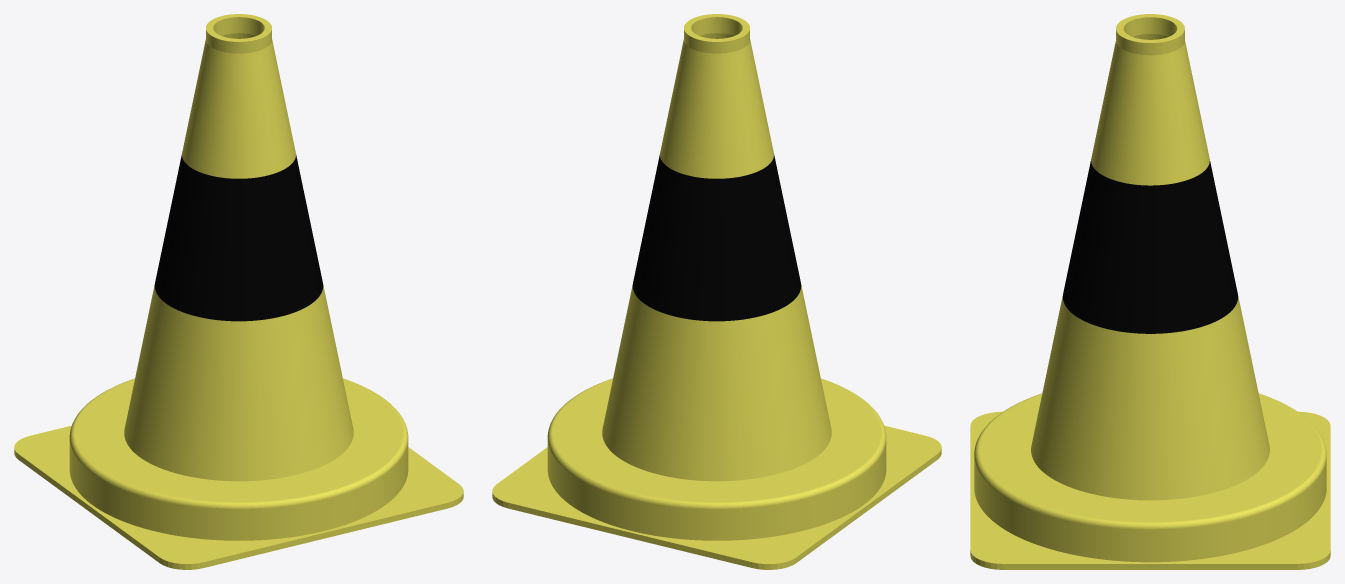
Rendered from class_1.dae.
The picture shows the model from 3 angles, left to right: view 1: azimuth 30°, elevation 25°; view 2: azimuth 150°, elevation 25°; view 3: azimuth 270°, elevation 25°; orthographic projection. The views are drawn at different scales.
Visible parts, largest first — view 1: Yellow_Cone; view 2: Yellow_Cone; view 3: Yellow_Cone.
Boxes of the visible parts, <box> form: Yellow_Cone: <box>14,14,463,569</box>; Yellow_Cone: <box>492,14,941,569</box>; Yellow_Cone: <box>970,14,1330,569</box>.
Size of the model in its own units: 0.228 by 0.228 by 0.325.
